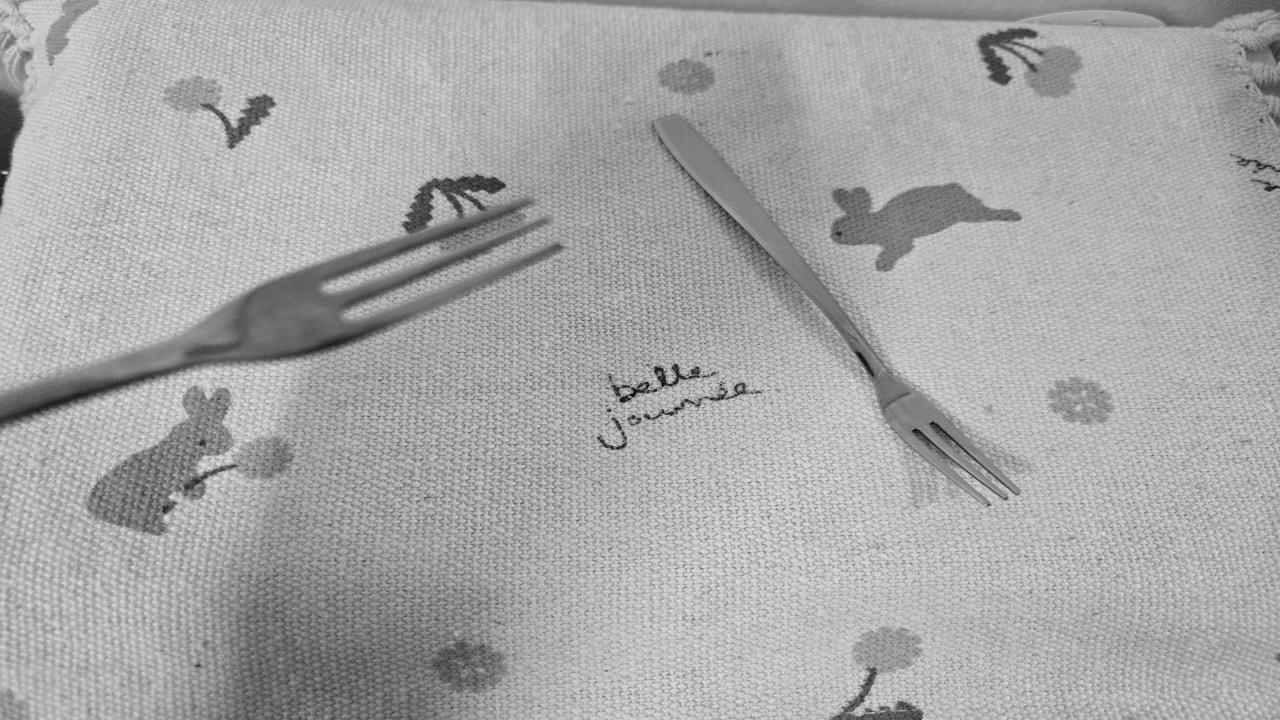fork: (0, 196, 570, 454), (654, 110, 1020, 508)
